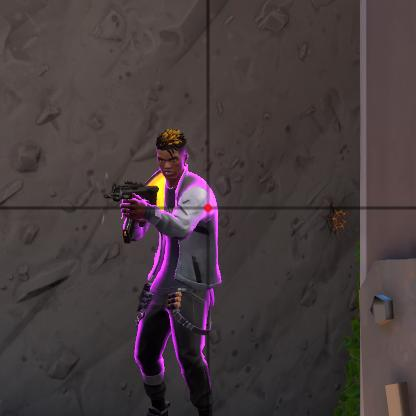enemyBody: (132, 178, 225, 317)
enemyHead: (154, 125, 191, 179)
